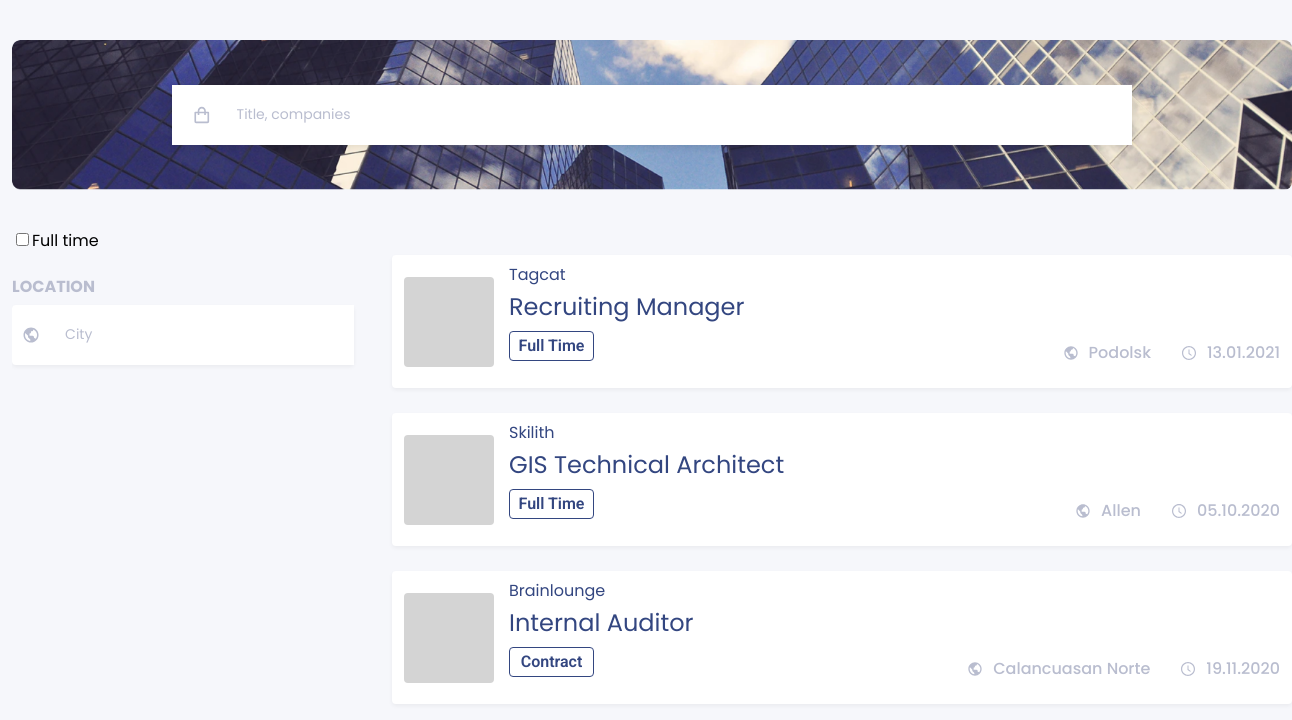
Test: MainPage › handle multiple filters
In the field with placeholder "Title, companies": (672, 115) [212, 85, 1132, 145], type "GIS TECHNICAL"
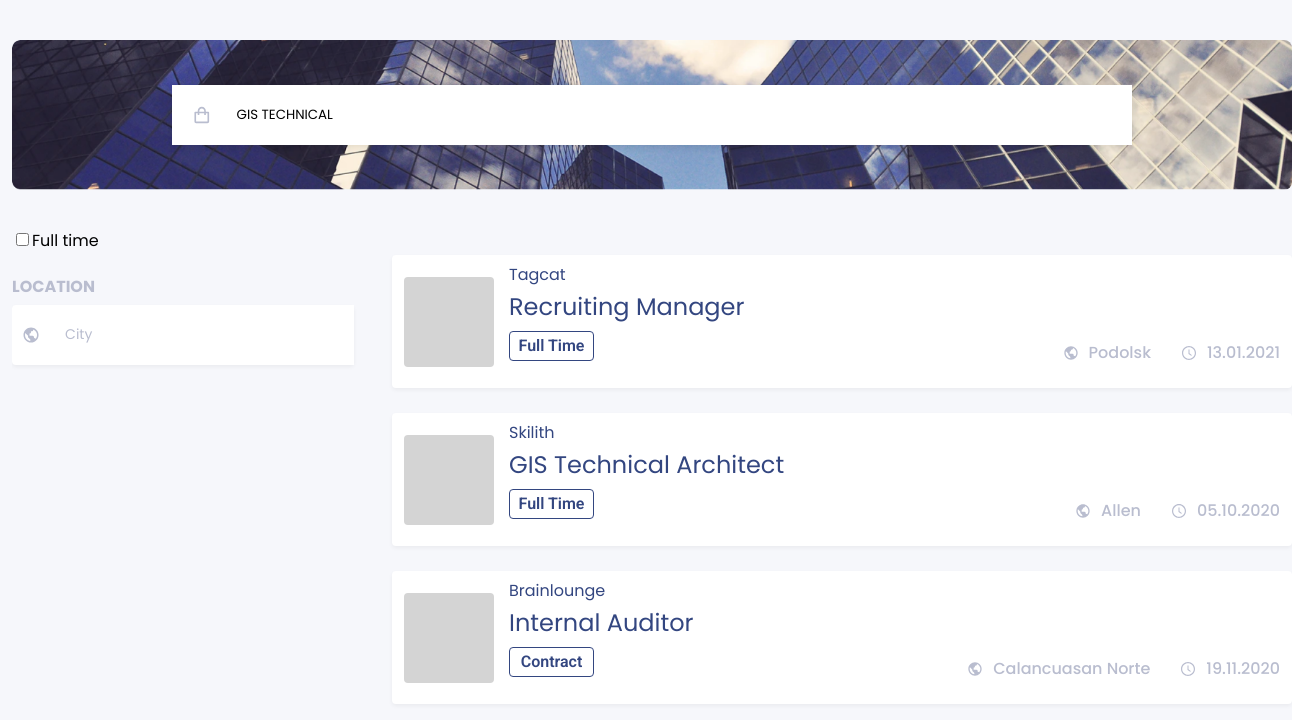
In the field with placeholder "City": (197, 335) [40, 305, 354, 365], type "Allen"
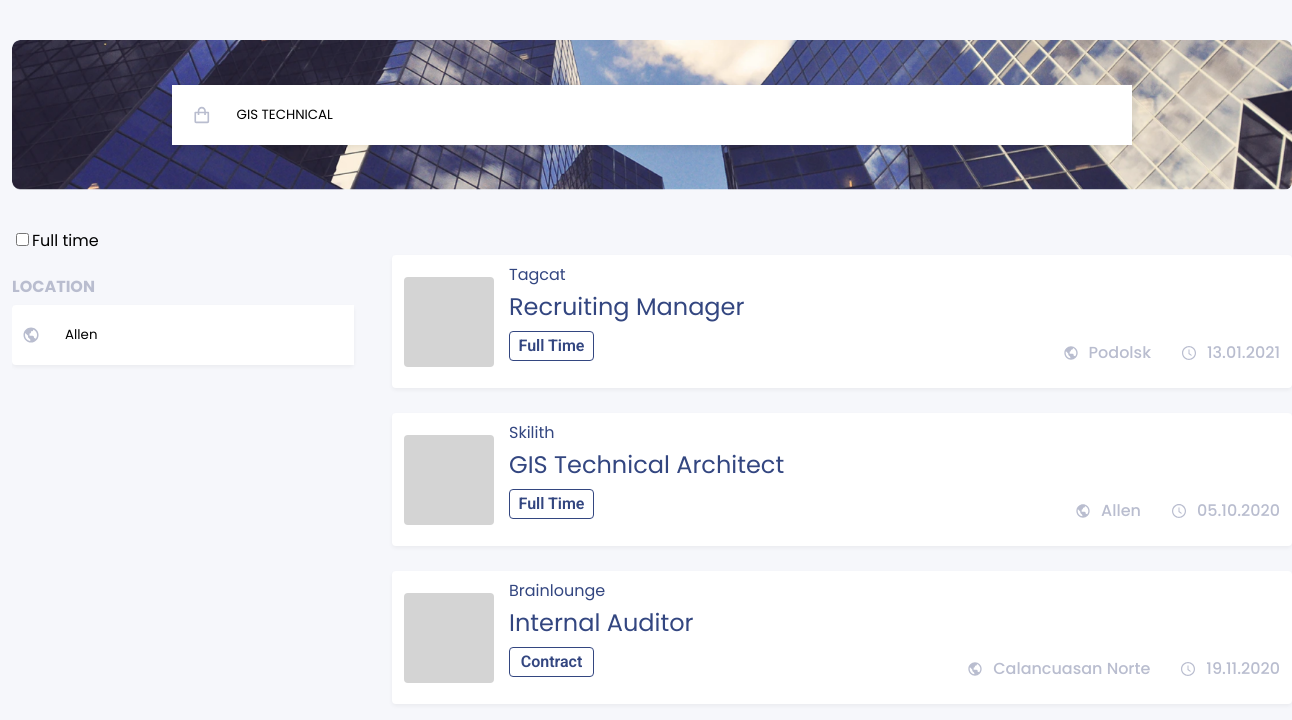
Click the checkbox labelled "Full time": (22, 240) [16, 233, 29, 246]
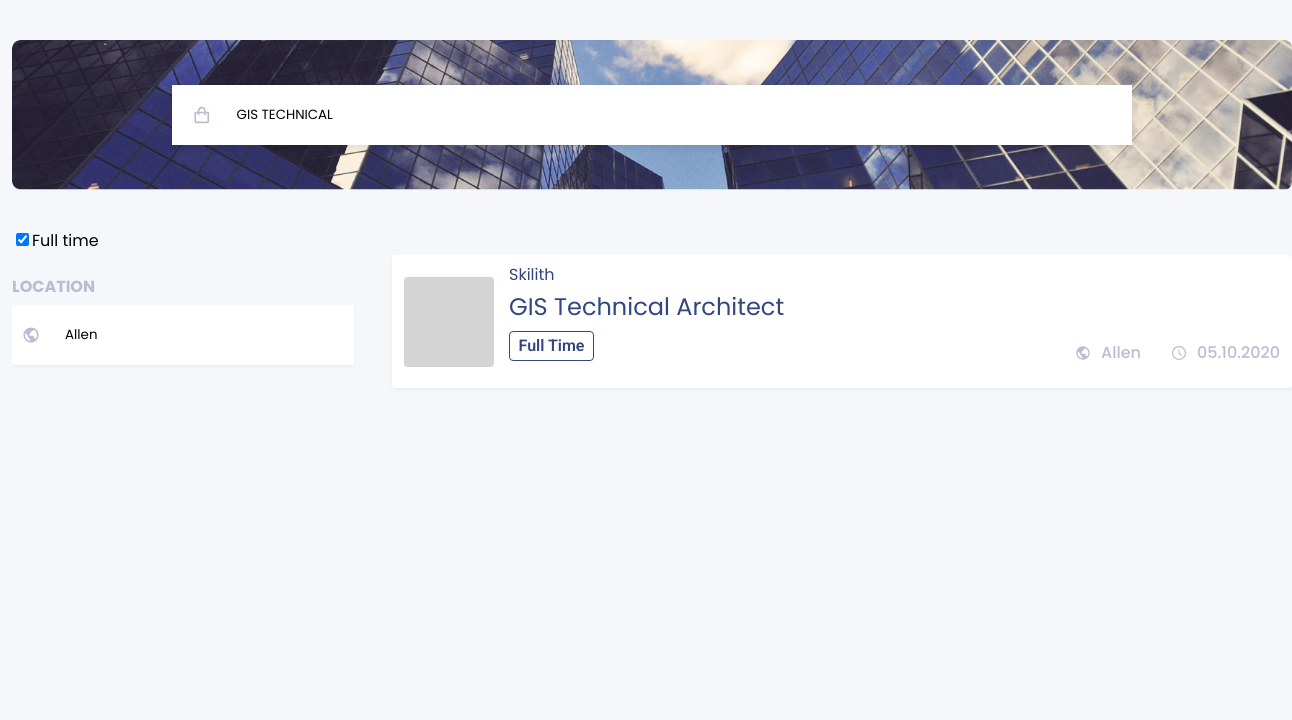
Expected: the heading "Skilith" is shown, [509, 263, 554, 286]
Expected: the link "Recruiting Manager" is gone
